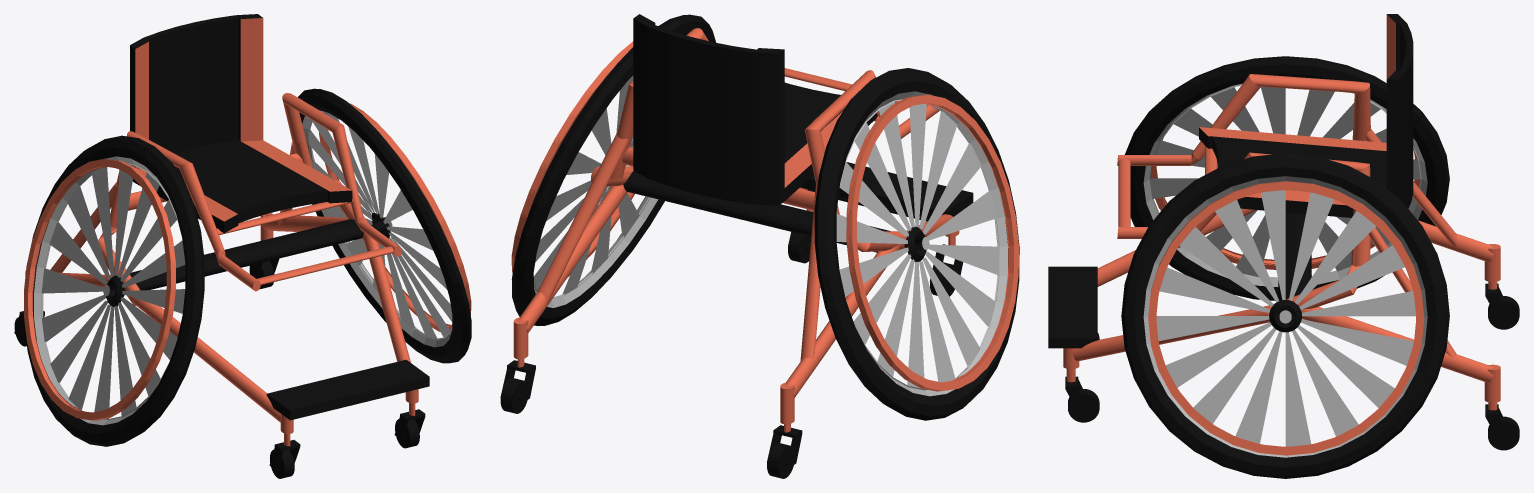
Rendered from Fauteuil roulant.fbx.
3 renders of one model, left to right at view 1: azimuth 30°, elevation 25°; view 2: azimuth 150°, elevation 25°; view 3: azimuth 270°, elevation 25°, orthographic. The views are drawn at different scales.
Visible parts, largest first — view 1: cadre, roues_principales_droite, roues_principales_gauche, roues_avant, roues_arriere; view 2: cadre, roues_principales_droite, roues_principales_gauche, roues_arriere, roues_avant; view 3: roues_principales_gauche, cadre, roues_principales_droite, roues_arriere, roues_avant.
Boxes of the visible parts, left/top/right/bottom form: cadre: left=25, top=14, right=429, bottom=446; roues_principales_droite: left=24, top=135, right=204, bottom=446; roues_principales_gauche: left=298, top=88, right=471, bottom=363; roues_avant: left=269, top=409, right=425, bottom=478; roues_arriere: left=14, top=258, right=279, bottom=346; cadre: left=513, top=14, right=973, bottom=432; roues_principales_droite: left=814, top=68, right=1019, bottom=420; roues_principales_gauche: left=511, top=14, right=715, bottom=325; roues_arriere: left=500, top=360, right=802, bottom=478; roues_avant: left=788, top=232, right=963, bottom=296; roues_principales_gauche: left=1121, top=153, right=1449, bottom=478; cadre: left=1048, top=14, right=1500, bottom=410; roues_principales_droite: left=1124, top=56, right=1449, bottom=300; roues_arriere: left=1485, top=283, right=1519, bottom=450; roues_avant: left=1065, top=332, right=1099, bottom=422.
Bounding box in the file's own units: 278 × 235 × 293.
